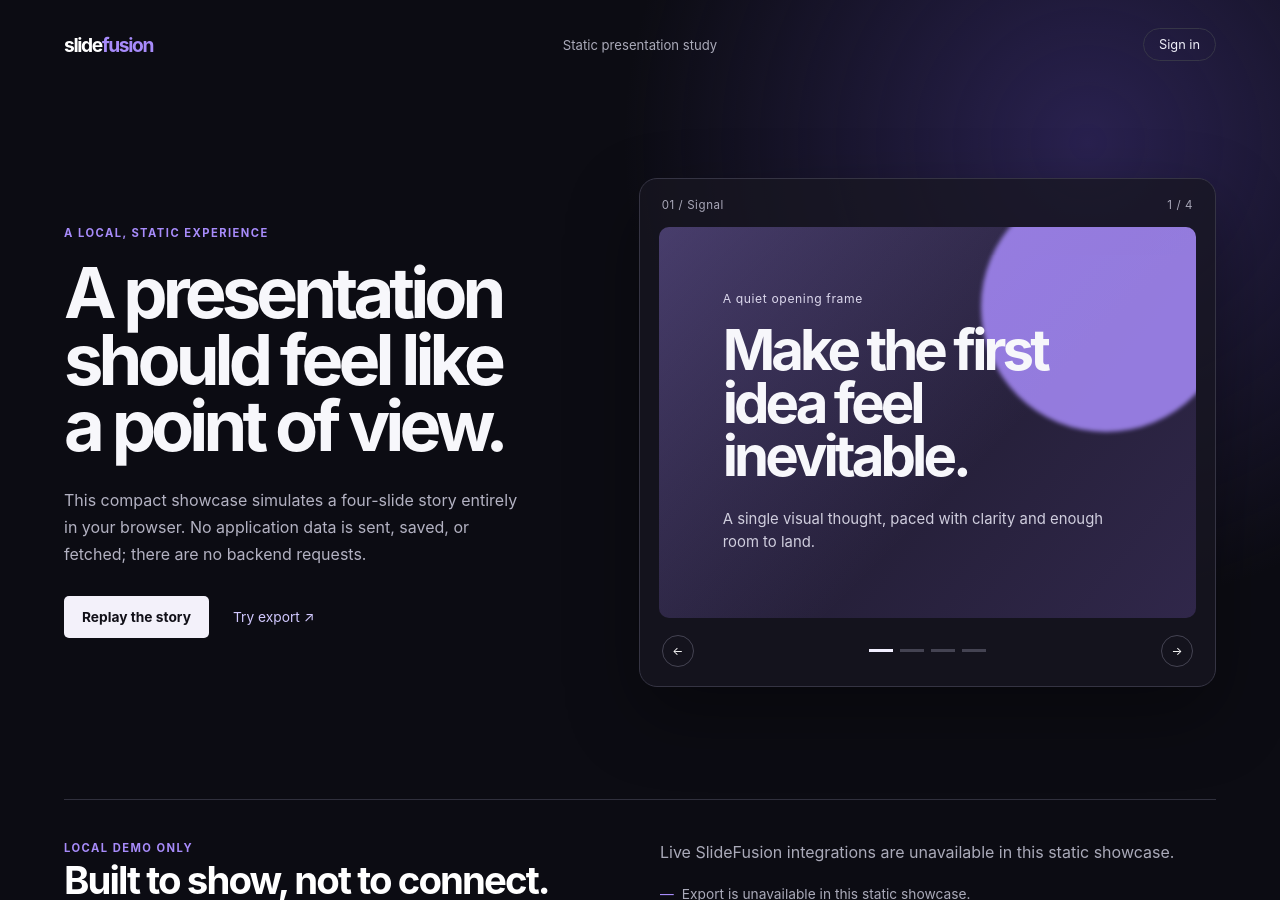
Test: showcase interaction smoke test › moves through local slides and communicates static integration fallbacks
Expected: the text "No application data is sent, saved, or fetched; there are no backend requests." is shown, [64,490,517,564]
Expected: the heading "Make the first idea feel inevitable." is shown, [723,315,1047,490]
Press ArrowRight
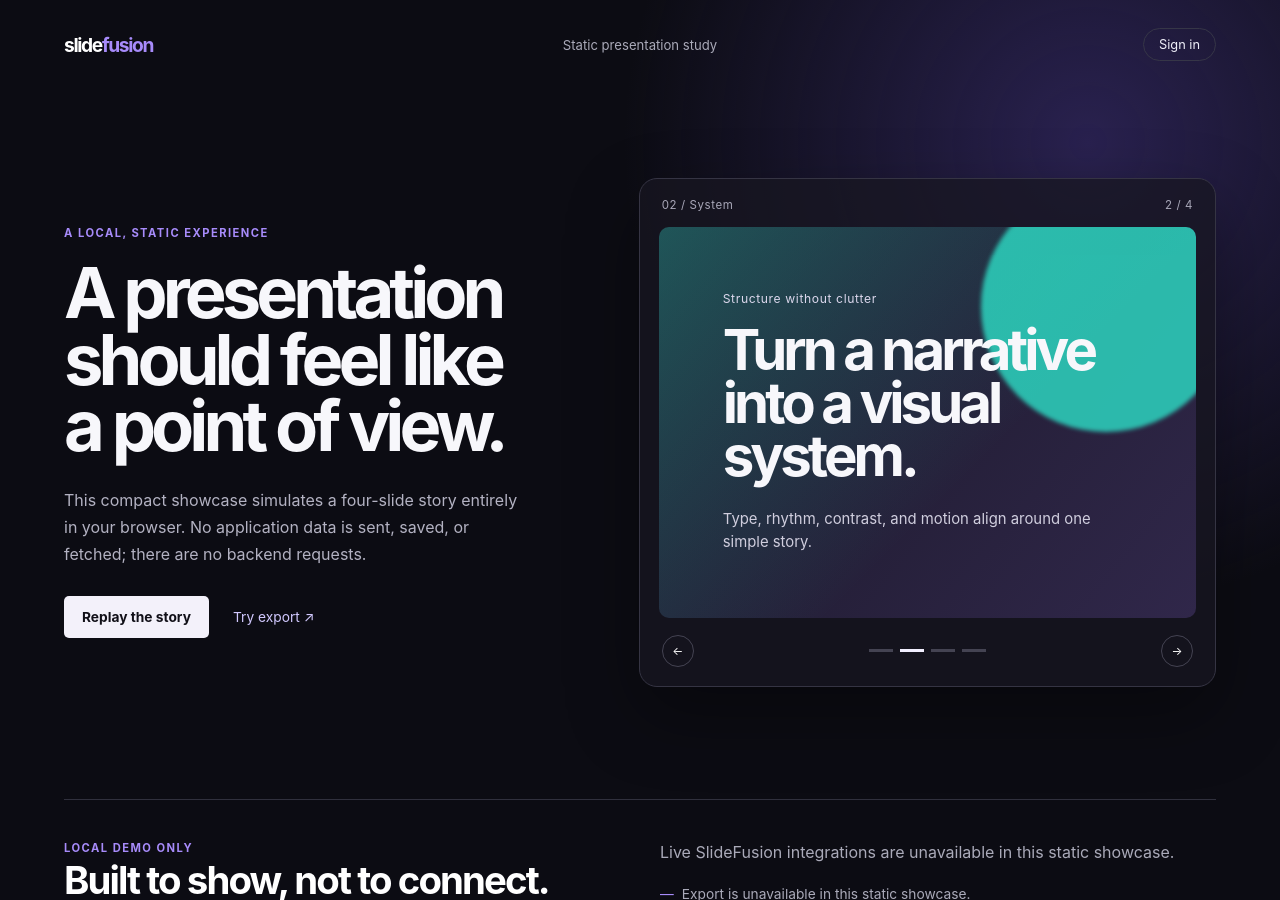
Expected: the heading "Turn a narrative into a visual system." is shown, [723,324,1132,483]
Click the button "Try export ↗" at [274, 618], box [233,600,314,634]
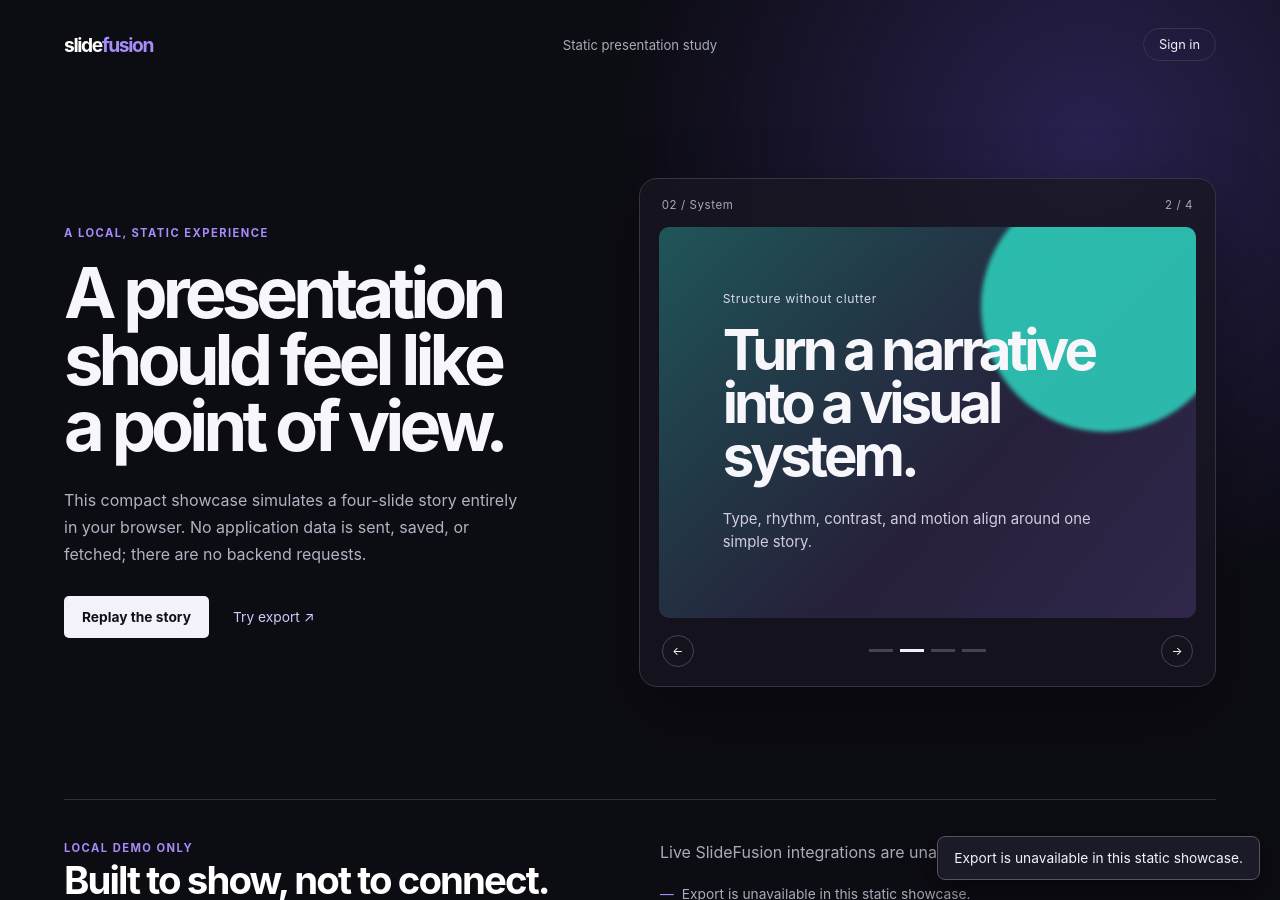
Expected: the message reads "Export is unavailable in this static showcase.", [954,850,1243,866]
